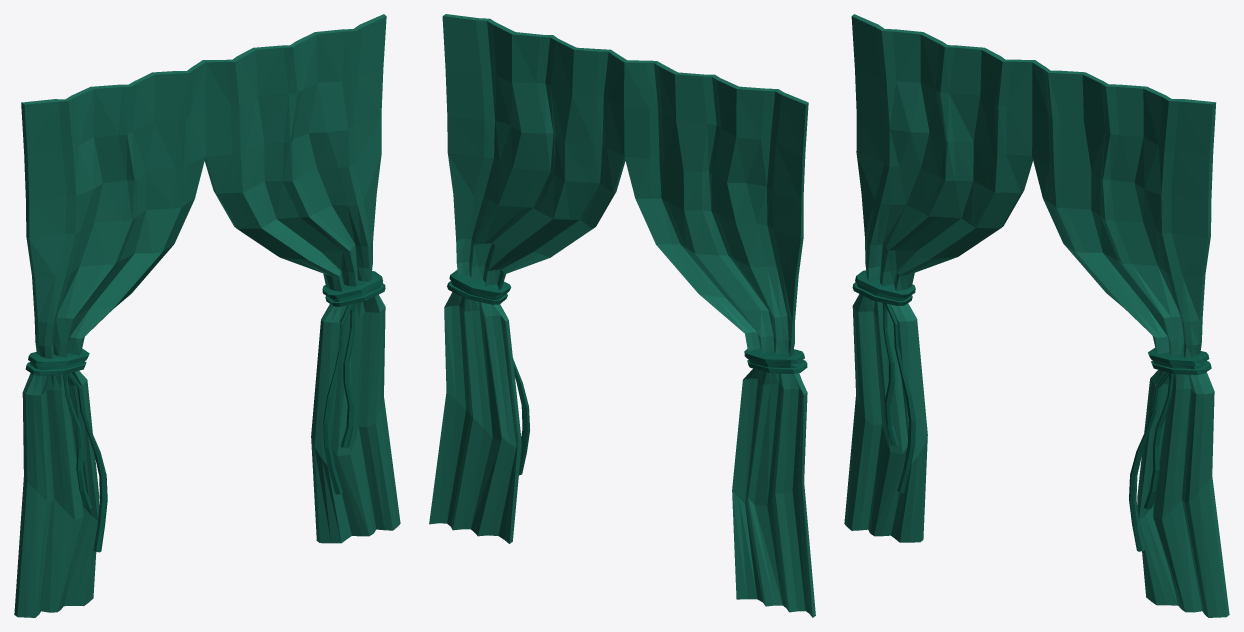
The model's file is SFHW_Curtain_M_001.fbx.
The picture shows the model from 3 angles, left to right: view 1: azimuth 30°, elevation 25°; view 2: azimuth 150°, elevation 25°; view 3: azimuth 330°, elevation 25°; orthographic projection.
Visible parts, largest first — view 1: SFHW_Curtain_M_001; view 2: SFHW_Curtain_M_001; view 3: SFHW_Curtain_M_001.
Boxes of the visible parts, x1=… form: SFHW_Curtain_M_001: x1=14, y1=14, x2=400, y2=617; SFHW_Curtain_M_001: x1=429, y1=14, x2=815, y2=617; SFHW_Curtain_M_001: x1=844, y1=14, x2=1229, y2=617.
Bounding box in the file's own units: 452 × 576 × 46.94.
